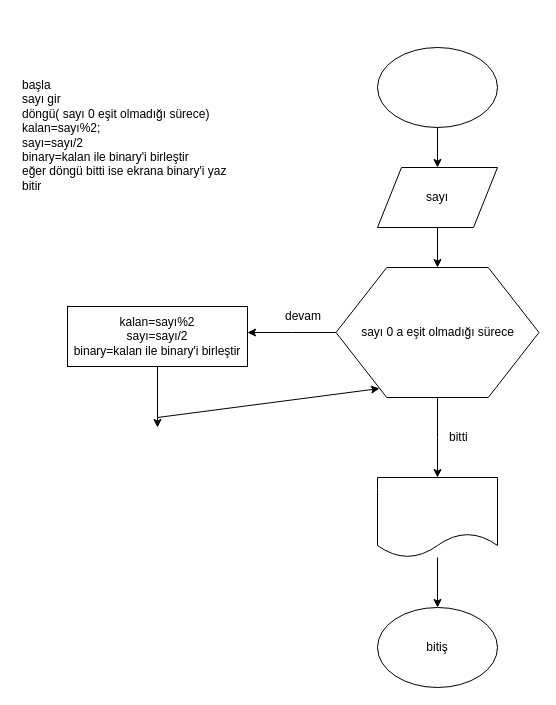
This 556x705 diagram has some shape labels left out. Each missing label, with the box of its shape:
başla: (376, 46, 498, 128)
ekrana binary değerini yaz: (376, 476, 498, 558)
